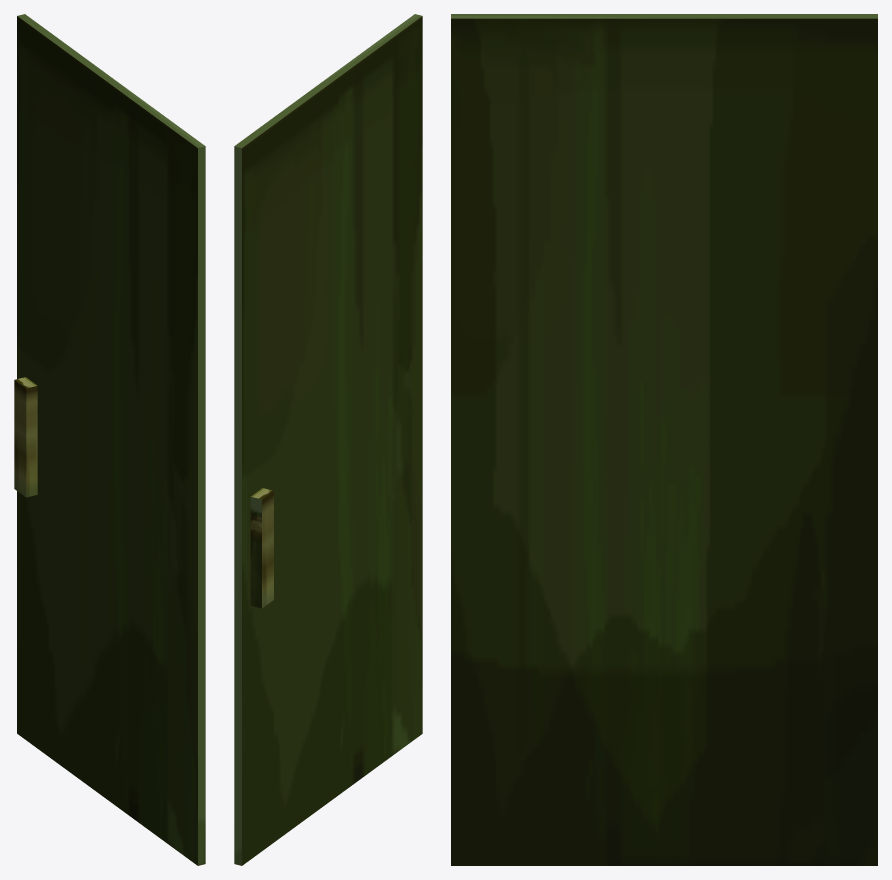
File: SM_subdoorent.fbx
The picture shows the model from 3 angles, left to right: view 1: azimuth 30°, elevation 25°; view 2: azimuth 150°, elevation 25°; view 3: azimuth 270°, elevation 25°; orthographic projection. The views are drawn at different scales.
Parts seen in each view (by area): view 1: SM_kitchemdoor; view 2: SM_kitchemdoor; view 3: SM_kitchemdoor.
Part boxes in pixels (x1,y1,x2,y2): SM_kitchemdoor: (14,14,205,865); SM_kitchemdoor: (234,14,422,865); SM_kitchemdoor: (451,14,877,865).
Size of the model in its own units: 5.54 by 196 by 89.64.
